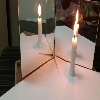fire: (74, 20, 77, 40)
